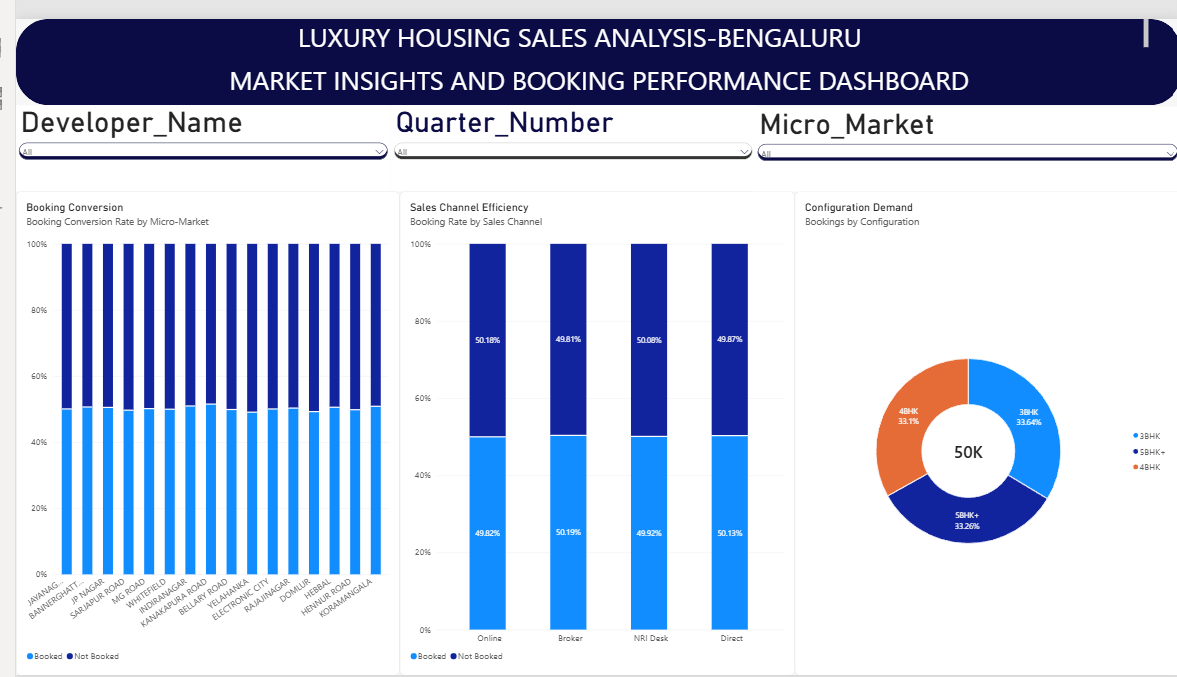

The dashboard page shown, as its layout file describes it:
{"tool":"powerbi","page":{"name":"Page 2","canvas":[1920,1080],"ordinal":1},"visuals":[{"type":"hundredPercentStackedColumnChart","title":"Booking Conversion","fields":{"Category":["Luxury_Housing_Details_BLR_Final_new.Micro_Market"],"Y":["CountNonNull(Luxury_Housing_Details_BLR_Final_new.Booking Status)"],"Series":["Luxury_Housing_Details_BLR_Final_new.Booking Status"]},"box":[0,284,631.9,796.6],"z":0},{"type":"donutChart","title":"Configuration Demand","fields":{"Category":["Luxury_Housing_Details_BLR_Final_new.Configuration"],"Y":["Sum(Luxury_Housing_Details_BLR_Final_new.Booking_Flag)"]},"box":[1282.3,284,638.1,796.6],"z":1000},{"type":"hundredPercentStackedColumnChart","title":"Sales Channel Efficiency","fields":{"Category":["Luxury_Housing_Details_BLR_Final_new.Sales_Channel"],"Series":["Luxury_Housing_Details_BLR_Final_new.Booking Status"],"Y":["CountNonNull(Luxury_Housing_Details_BLR_Final_new.Property_ID)"]},"box":[631.9,284,650.4,796.6],"z":2000},{"type":"shape","box":[0,0,1920.4,141.9],"z":3000},{"type":"textbox","box":[0,0,1864.8,51.5],"z":4000},{"type":"textbox","box":[0,70,1920.4,72],"z":5000},{"type":"slicer","fields":{"Values":["Luxury_Housing_Details_BLR_Final_new.Developer_Name"]},"box":[0,141.9,616.8,141.9],"z":6000},{"type":"slicer","fields":{"Values":["Luxury_Housing_Details_BLR_Final_new.Quarter_Number"]},"box":[616.8,141.9,600.4,141.9],"z":7000},{"type":"slicer","fields":{"Values":["Luxury_Housing_Details_BLR_Final_new.Micro_Market"]},"box":[1216.8,143.9,703.2,139.8],"z":8000}]}

Visuals, with their boxes in screenshot pixels (x1, y1, x2, y2), scaled from the page's 1920x1080 canvas onto the 1177x677 screenshot:
"Booking Conversion" hundredPercentStackedColumnChart: x1=0, y1=178, x2=387, y2=676
"Configuration Demand" donutChart: x1=786, y1=178, x2=1176, y2=676
"Sales Channel Efficiency" hundredPercentStackedColumnChart: x1=387, y1=178, x2=786, y2=676
shape: x1=0, y1=0, x2=1176, y2=89
textbox: x1=0, y1=0, x2=1143, y2=32
textbox: x1=0, y1=44, x2=1176, y2=89
slicer - Luxury_Housing_Details_BLR_Final_new.Developer_Name: x1=0, y1=89, x2=378, y2=178
slicer - Luxury_Housing_Details_BLR_Final_new.Quarter_Number: x1=378, y1=89, x2=746, y2=178
slicer - Luxury_Housing_Details_BLR_Final_new.Micro_Market: x1=746, y1=90, x2=1176, y2=178
